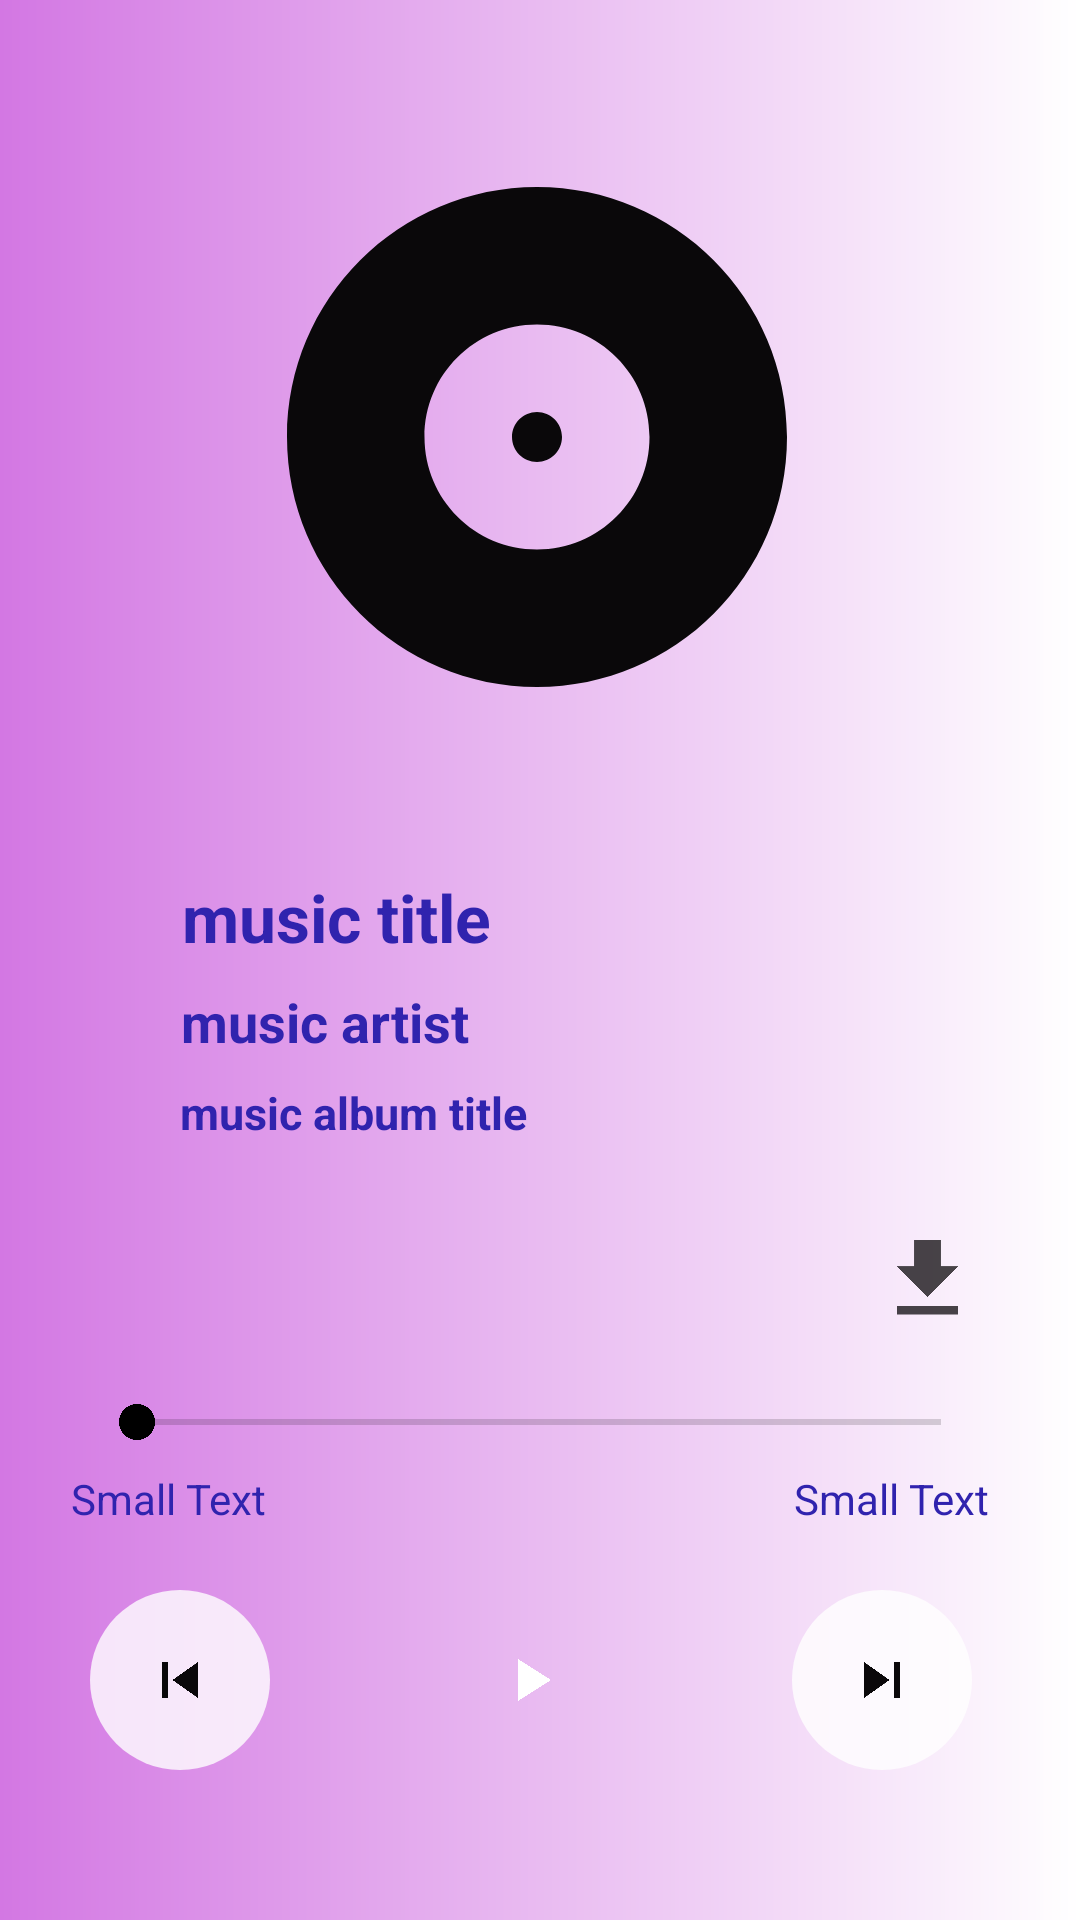

Screen size 1080 x 1920. Icon name, then its center in pixels as point (x, y):
download: point (927, 1277)
play arrow: point (534, 1680)
skip next: point (882, 1680)
skip previous: point (180, 1680)
